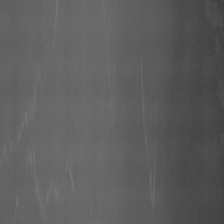silk_spot: (134, 56, 163, 218), (20, 144, 74, 209), (16, 53, 53, 130), (103, 54, 121, 122)
